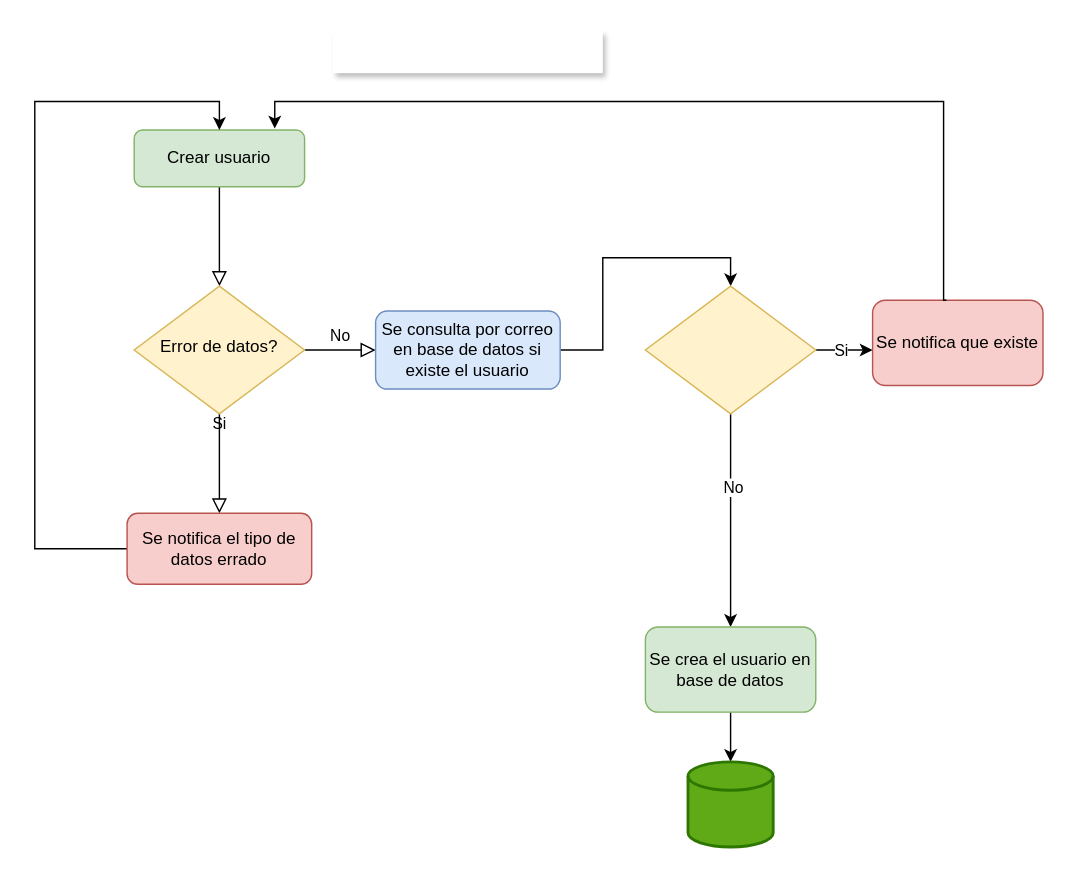
The diagram is 1068 pixels wide and 872 high, and some of its shapes have lost their labels. Each missing label, with the centre of its shape:
"Diagrama de flujo" belongs at (469,53).
"Existe?" belongs at (730,349).
"Users" belongs at (730,804).
